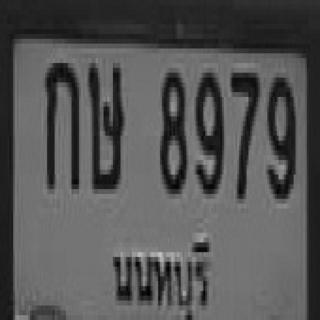A01: (43, 58, 77, 184)
A39: (87, 58, 122, 189)
N07: (230, 68, 258, 194)
N08: (158, 68, 184, 189)
N09: (265, 73, 294, 194), (194, 68, 222, 189)
P37: (110, 232, 213, 317)
